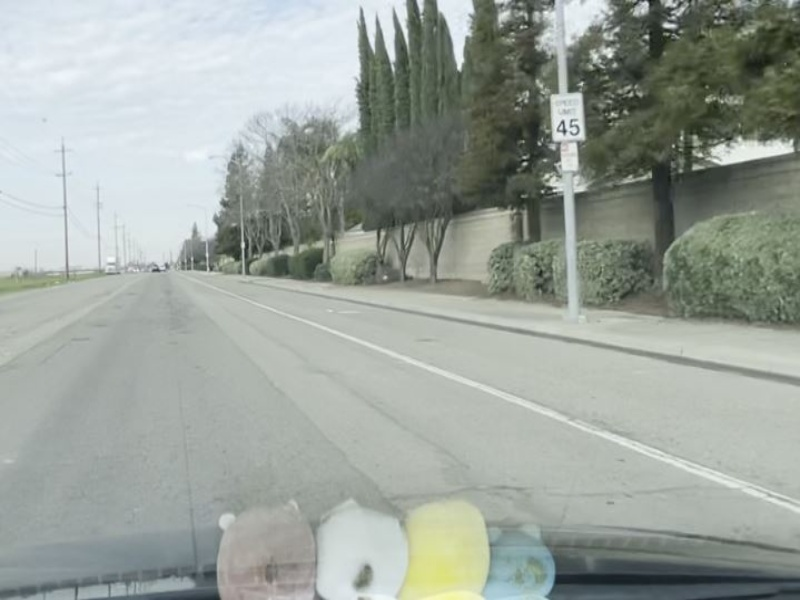speed limit sign: (546, 90, 587, 143)
